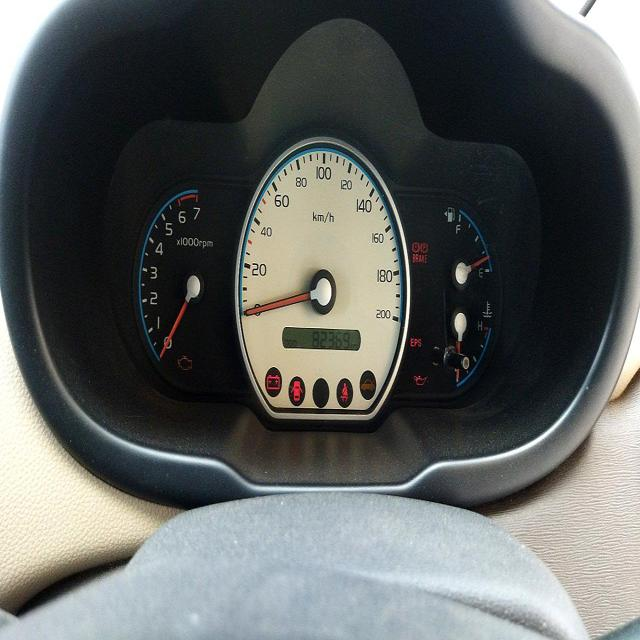odometer: (311, 327, 350, 350)
